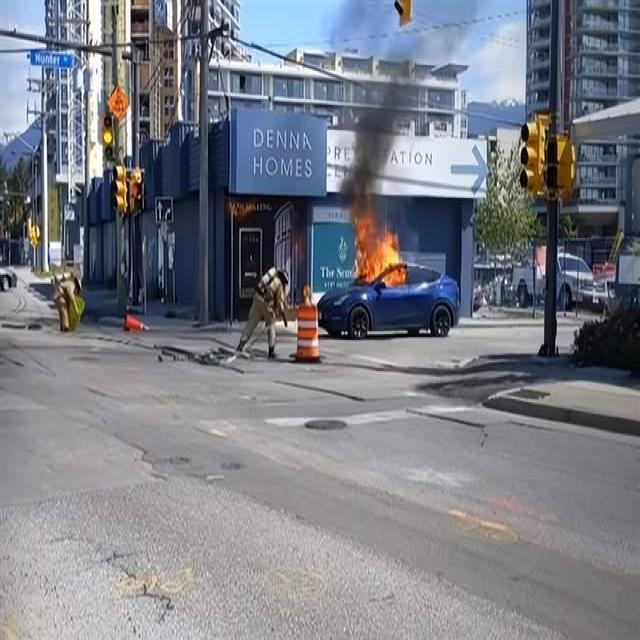Fire: (352, 201, 407, 290)
Smoke: (340, 72, 424, 193)
